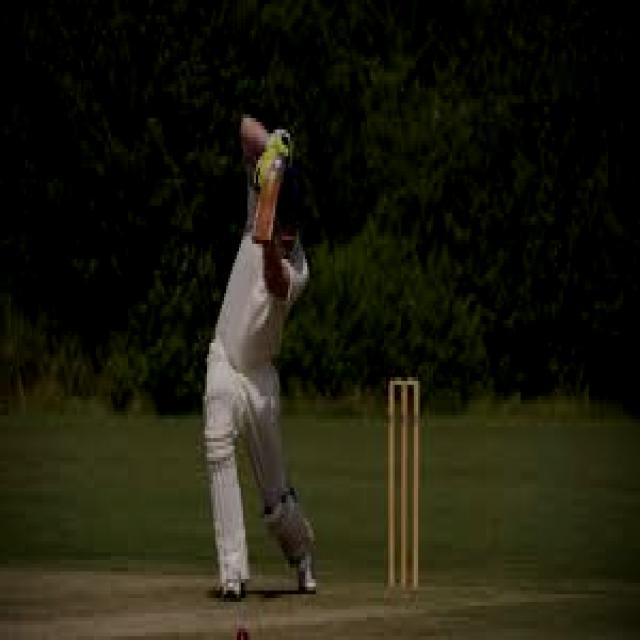bat: (208, 170, 332, 243)
toe: (252, 236, 274, 243)
